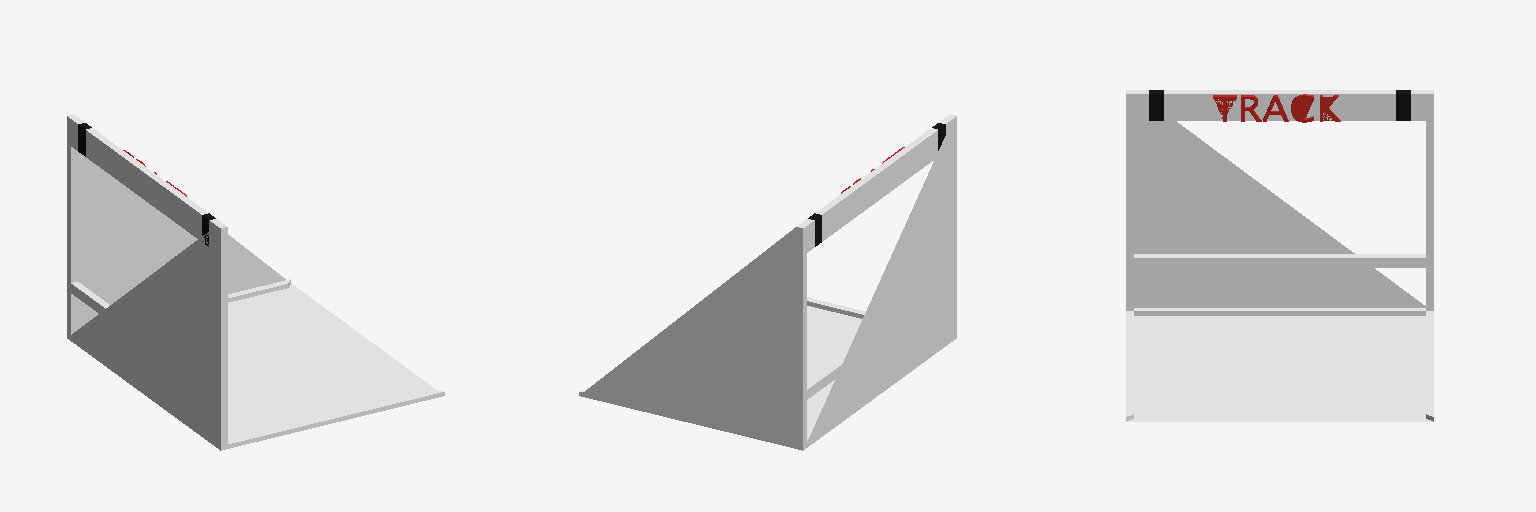
The model's file is hurdle.obj.
3 renders of one model, left to right at view 1: azimuth 30°, elevation 25°; view 2: azimuth 150°, elevation 25°; view 3: azimuth 270°, elevation 25°, orthographic.
Parts seen in each view (by area): view 1: Mesh6 __1 Model; view 2: Mesh6 __1 Model; view 3: Mesh6 __1 Model.
Part boxes in pixels (bbox=[...]): Mesh6 __1 Model: bbox=[67, 114, 444, 450]; Mesh6 __1 Model: bbox=[579, 114, 956, 450]; Mesh6 __1 Model: bbox=[1126, 90, 1433, 421].
Size of the model in its own units: 1.07 by 1.01 by 1.27.